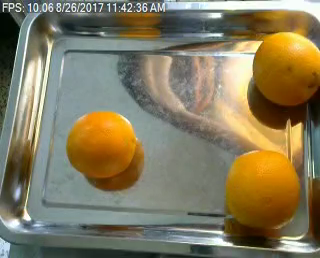Orange: (226, 149, 301, 228), (252, 31, 319, 106), (66, 111, 137, 178)
